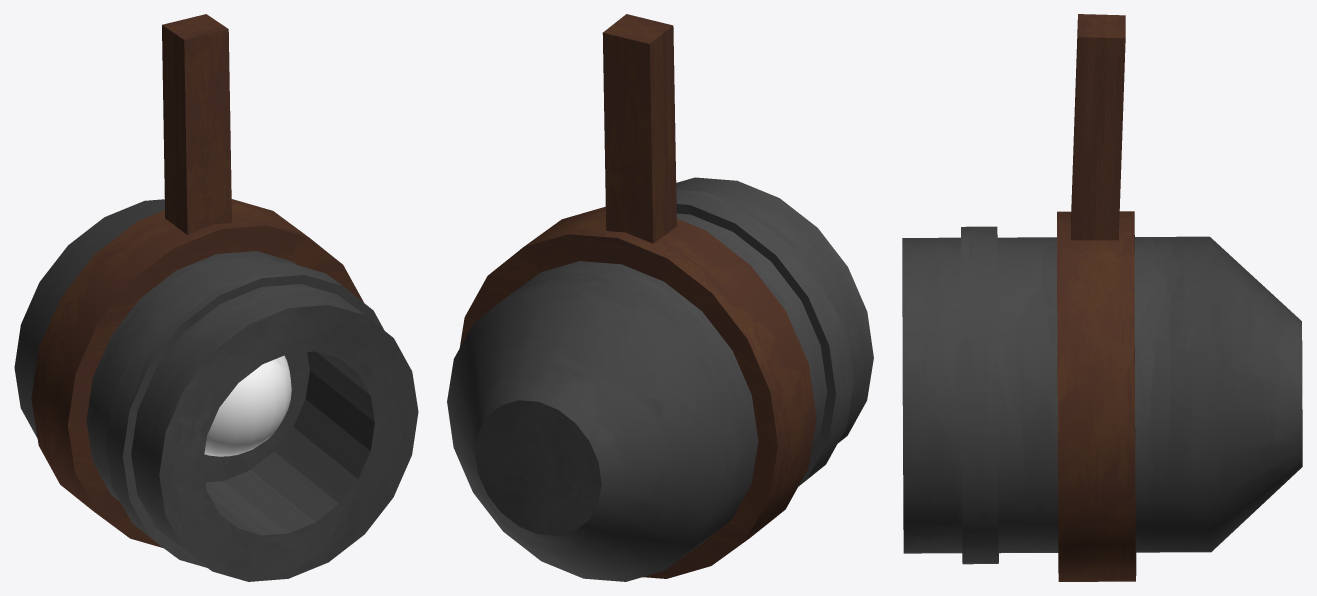
The model's file is SM_SmallLight.fbx.
3 renders of one model, left to right at view 1: azimuth 30°, elevation 25°; view 2: azimuth 150°, elevation 25°; view 3: azimuth 270°, elevation 25°, orthographic. The views are drawn at different scales.
Parts seen in each view (by area): view 1: SmallLight; view 2: SmallLight; view 3: SmallLight.
Part boxes in pixels (bbox=[...]): SmallLight: bbox=[14, 14, 418, 581]; SmallLight: bbox=[447, 14, 873, 581]; SmallLight: bbox=[902, 14, 1302, 581].
Size of the model in its own units: 11.73 by 18.68 by 12.59.
